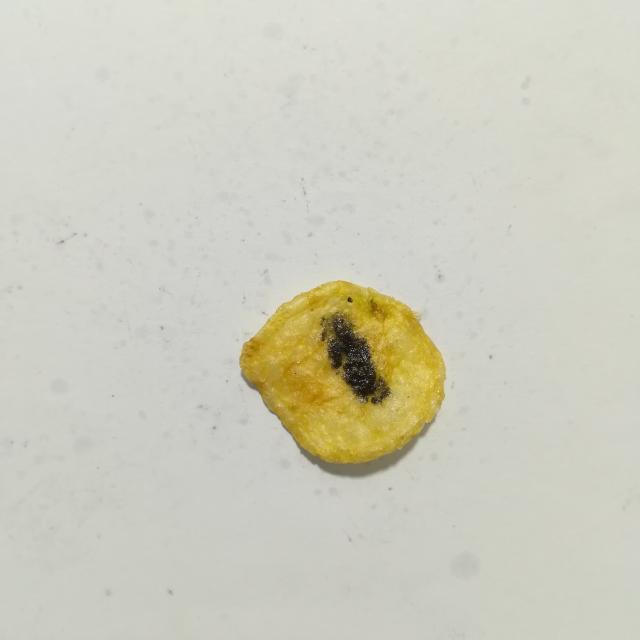chip: (240, 281, 445, 463)
damaged: (322, 314, 390, 403), (348, 297, 353, 302)
